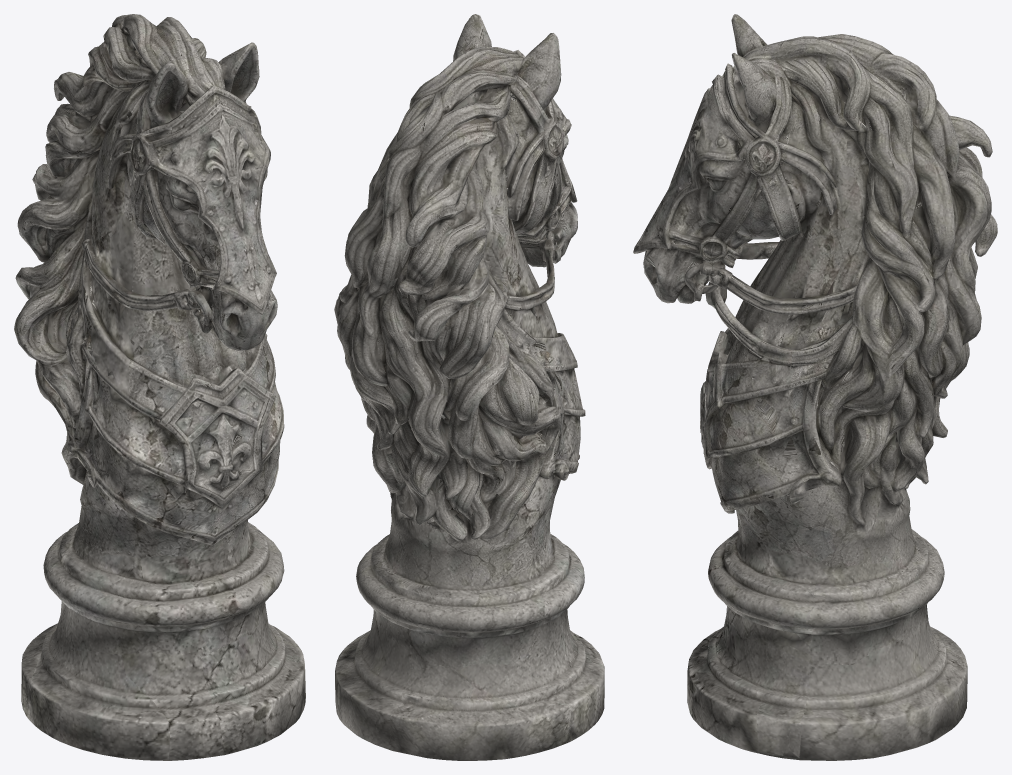
3 renders of one model, left to right at view 1: azimuth 30°, elevation 25°; view 2: azimuth 150°, elevation 25°; view 3: azimuth 270°, elevation 25°, orthographic. The views are drawn at different scales.
Bounding box in the file's own units: 0.4221 × 1.12 × 0.5534.
1 material, 1 textured.
